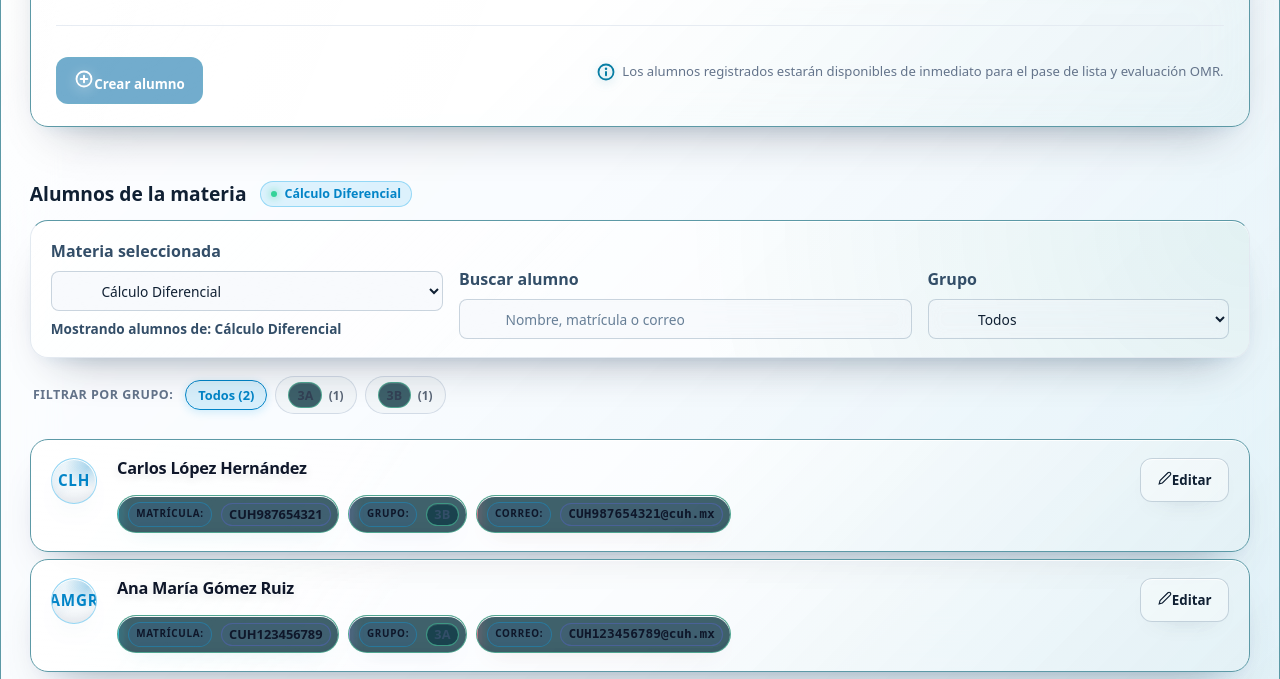
SeccionAlumnos › permite filtrar alumnos por texto y por grupo
(page scrolled)
Type "Carlos" into the search field labelled "Buscar alumno" at (685, 319), box left=459, top=299, right=912, bottom=339
(page scrolled)
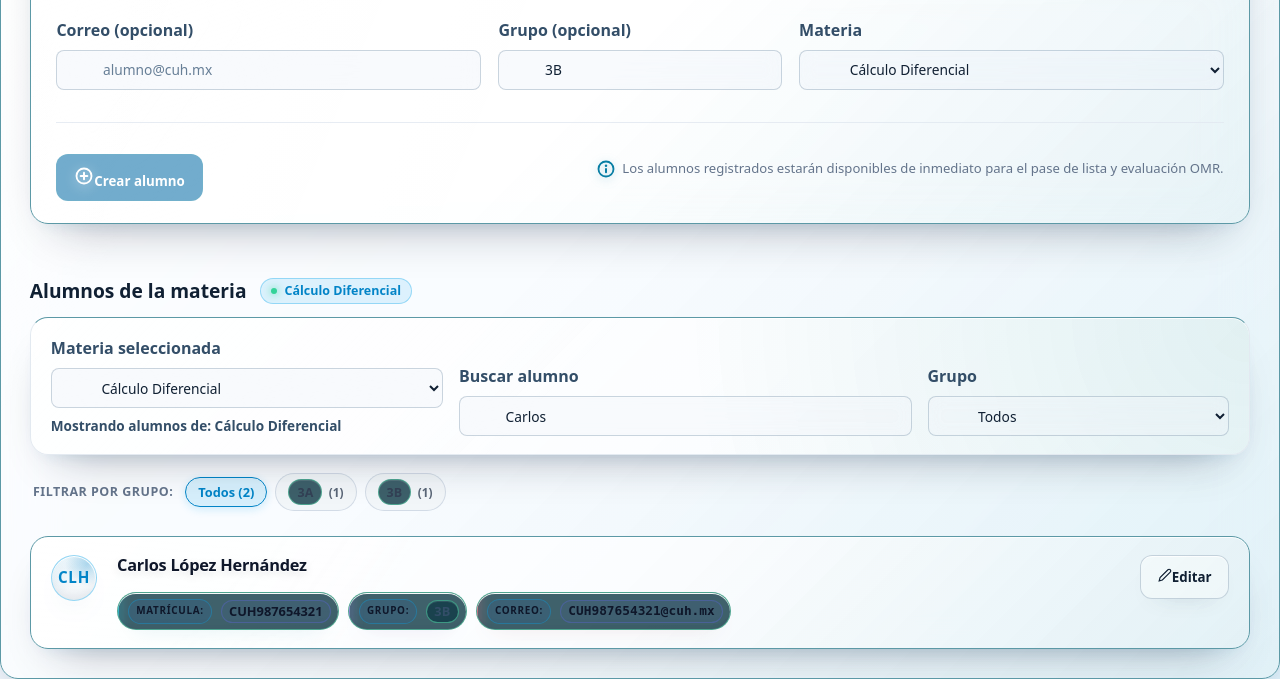
Expected: the text "Carlos López Hernández" is shown, left=117, top=555, right=306, bottom=576
Expected: the text "Ana María Gómez Ruiz" is gone
# Limpiar búsqueda y filtrar por grupo
Clear the search field labelled "Buscar alumno" at (685, 416), box left=459, top=396, right=912, bottom=436
(page scrolled)
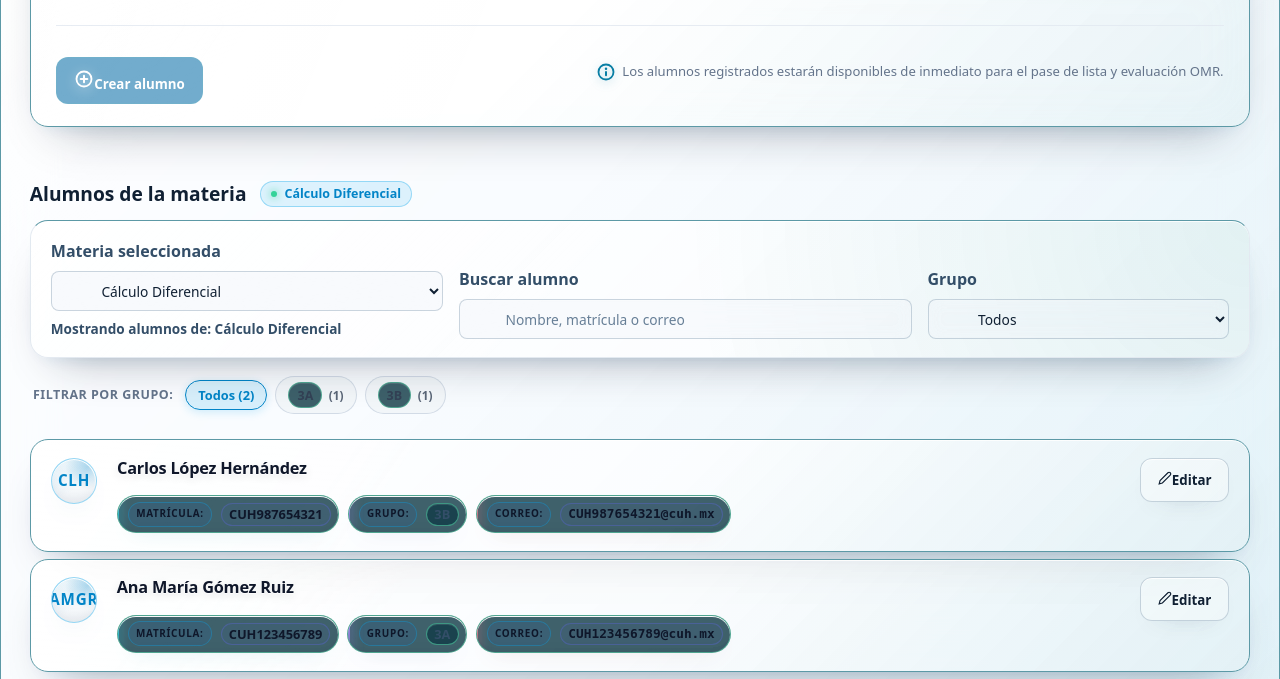
Select "3A" in the dropdown labelled "Grupo" at (1078, 319), box left=928, top=299, right=1229, bottom=339
(page scrolled)
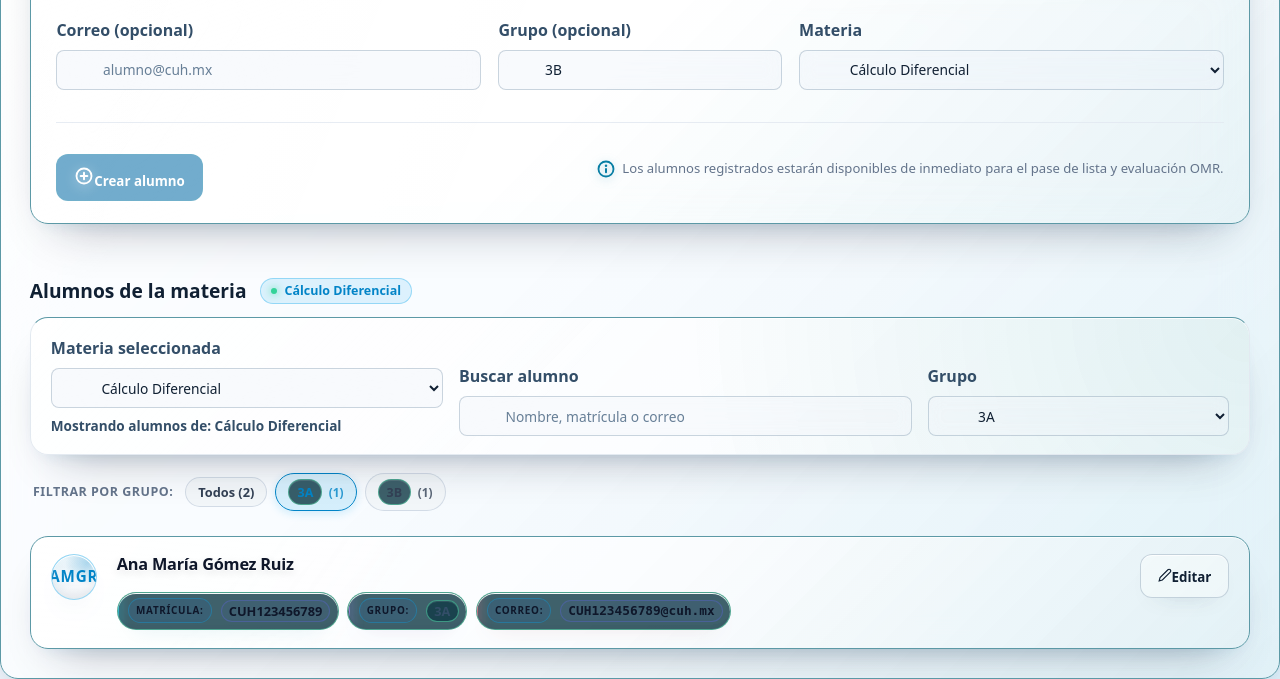
Expected: the text "Ana María Gómez Ruiz" is shown, left=117, top=555, right=294, bottom=576
Expected: the text "Carlos López Hernández" is gone
